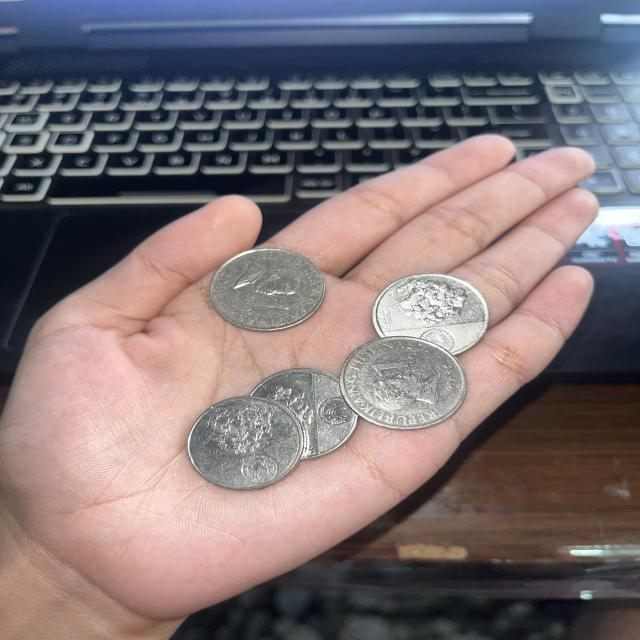1_New_Back: (195, 400, 283, 456), (390, 277, 470, 326)
1_Old_Front: (231, 291, 306, 317), (366, 350, 425, 381)
